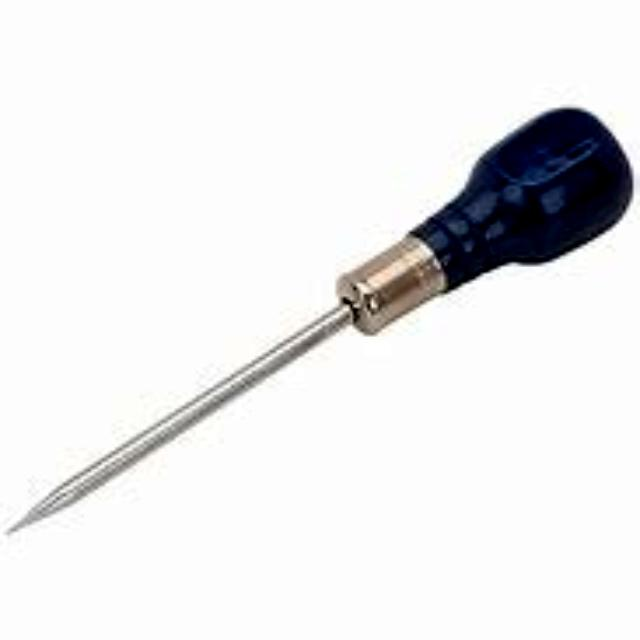ice pick: (4, 98, 632, 538)
